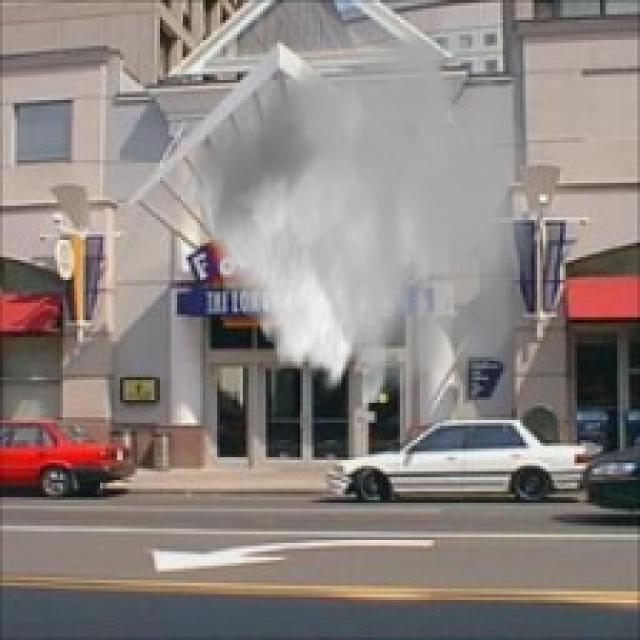Smoke: (180, 28, 534, 403)
